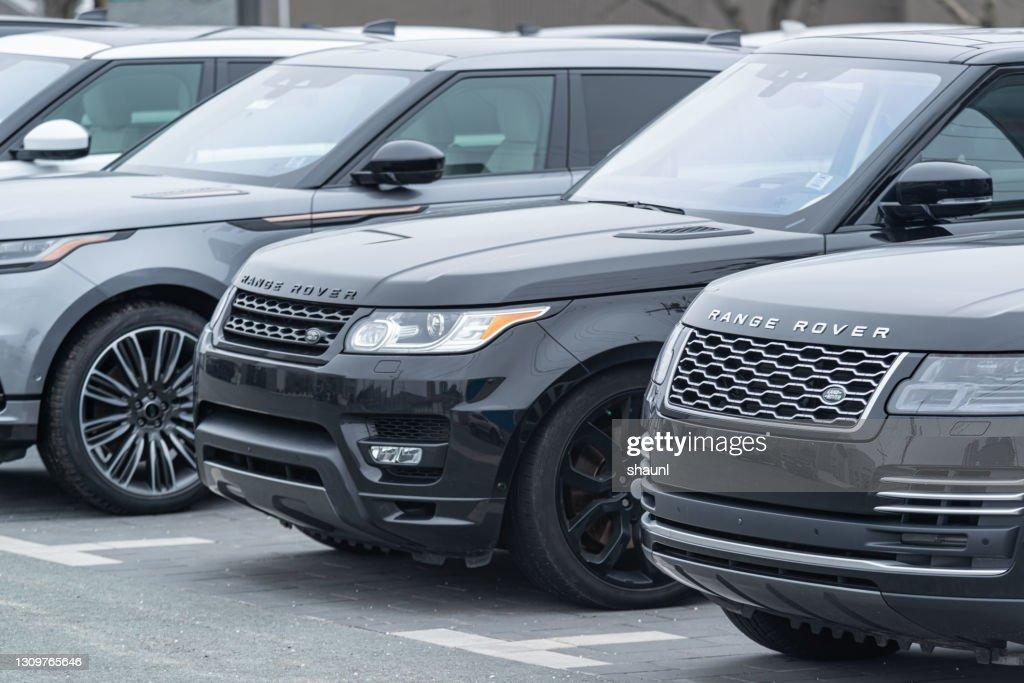range rover: (697, 299, 907, 346), (235, 267, 364, 311)
